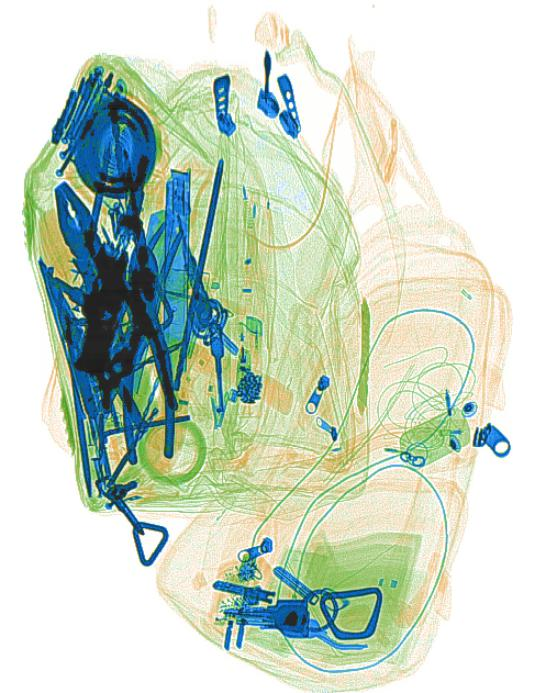knife: (159, 165, 195, 348)
lighter: (233, 312, 263, 420)
